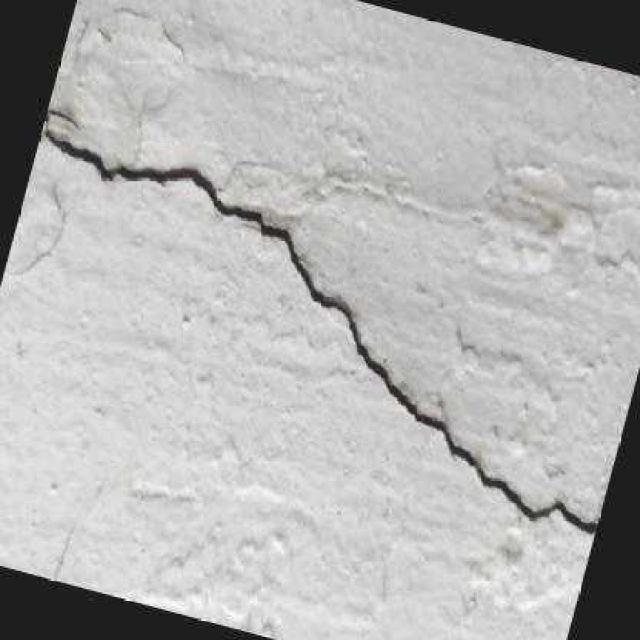D00: (39, 107, 594, 540)
